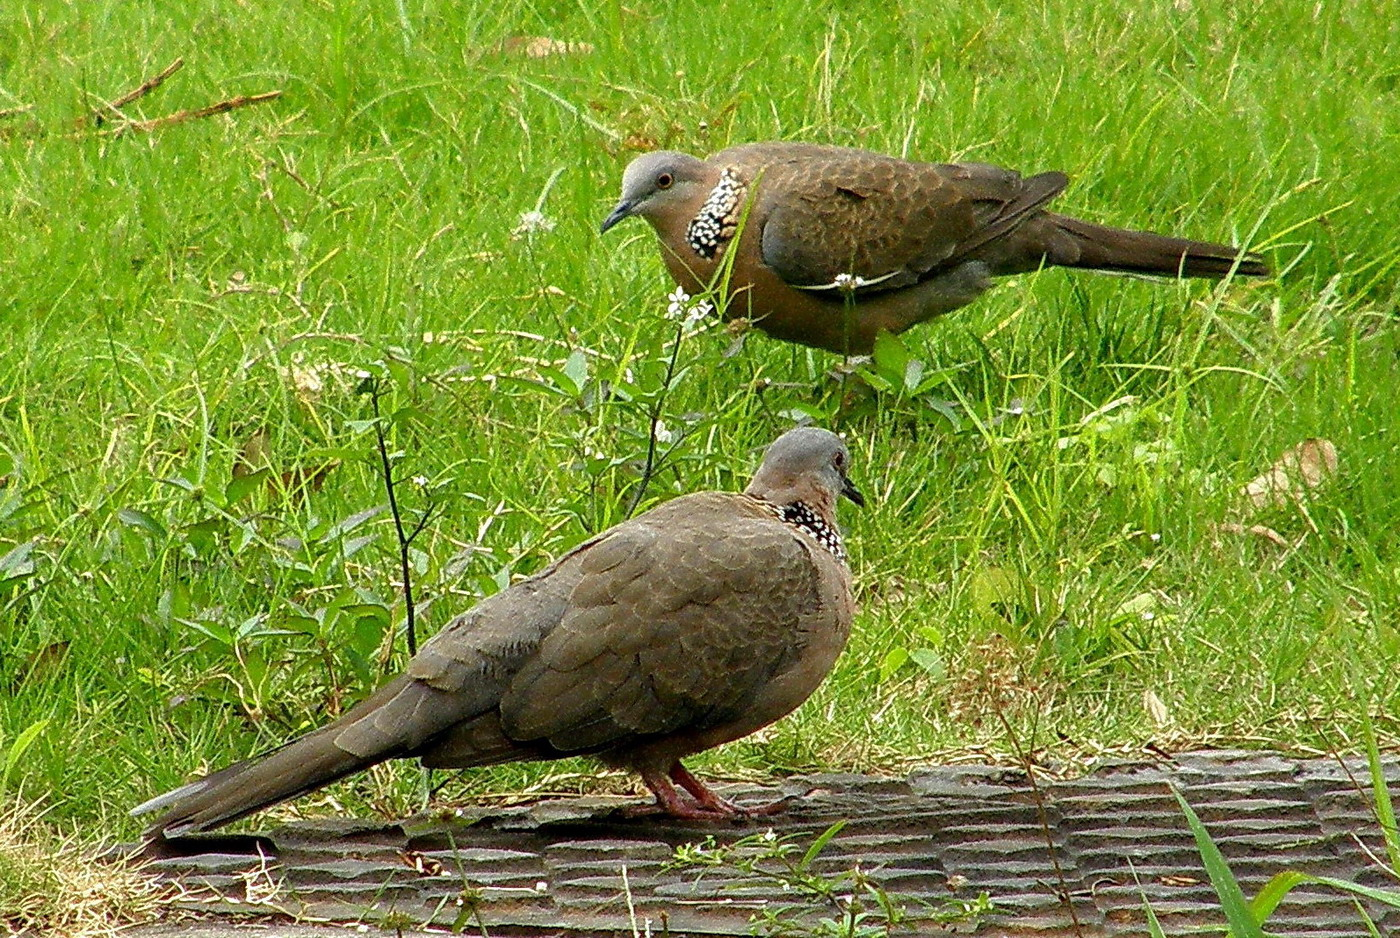bird: (116, 408, 905, 865), (600, 98, 1271, 428)
